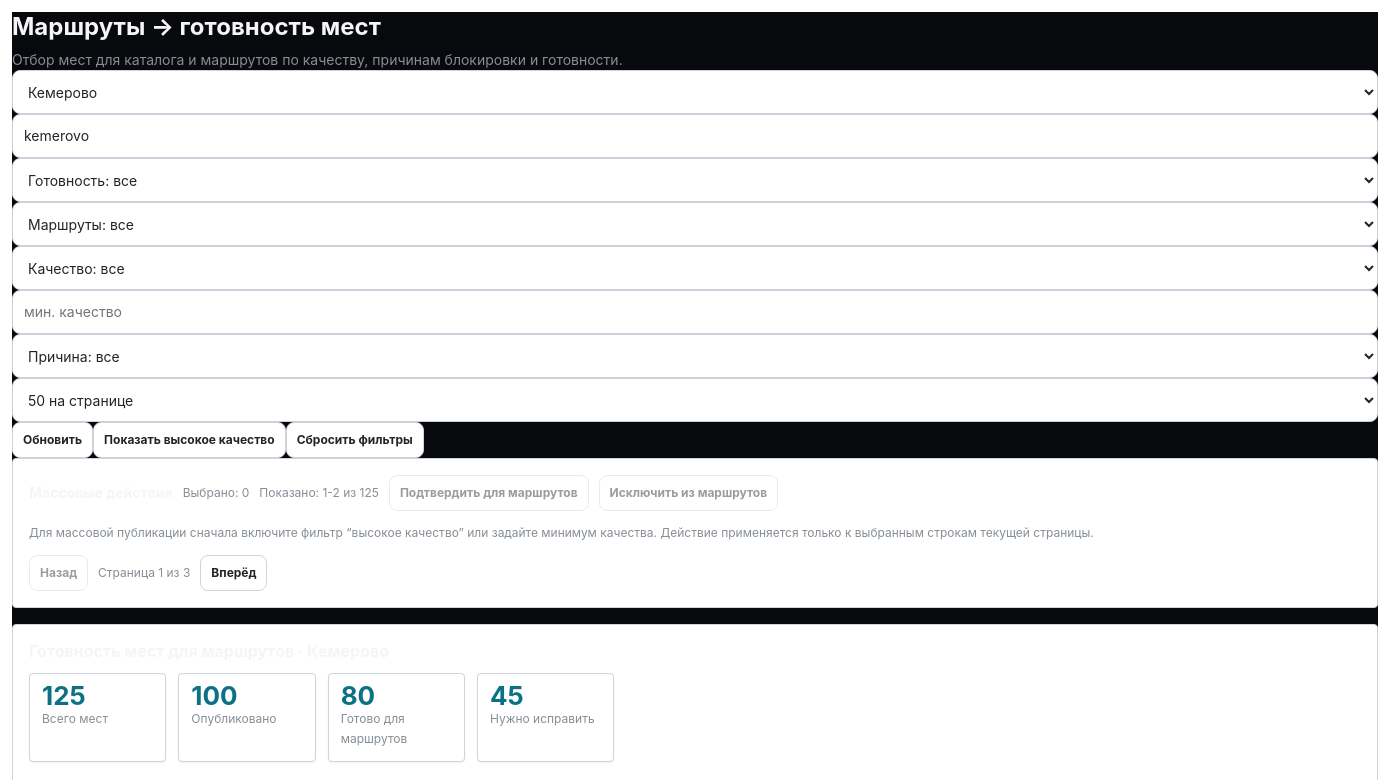
AdminRouteEligibilityPage quality gates › next page requests the next offset
Check: the text "Страница 1 из 3" is shown, box [98,563,190,583]
Click the button "Вперёд". click: x=234, y=573
box: [200,555,267,591]
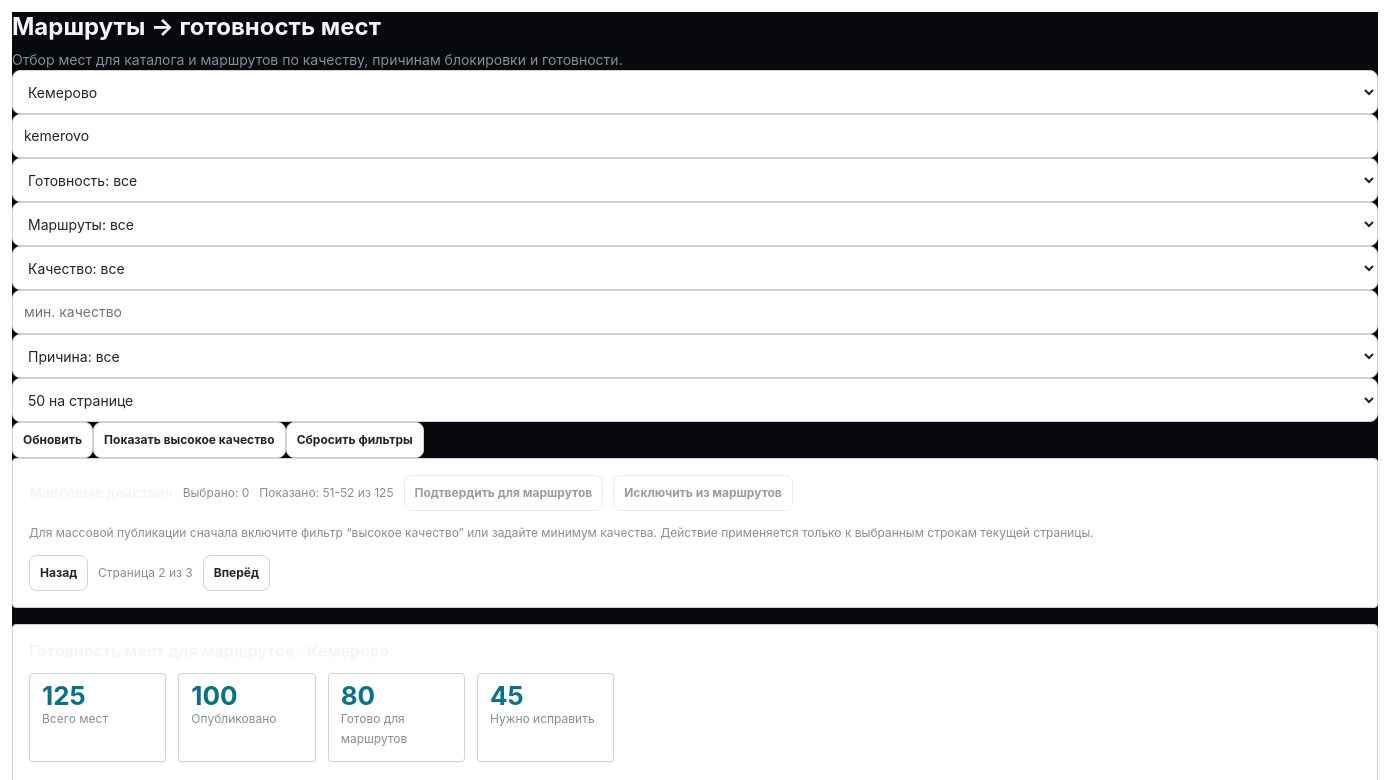
Check: the text "Страница 2 из 3" is shown, box [98,563,193,583]
